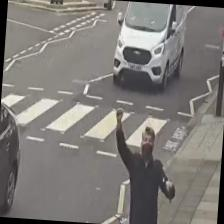person: (106, 107, 180, 224)
